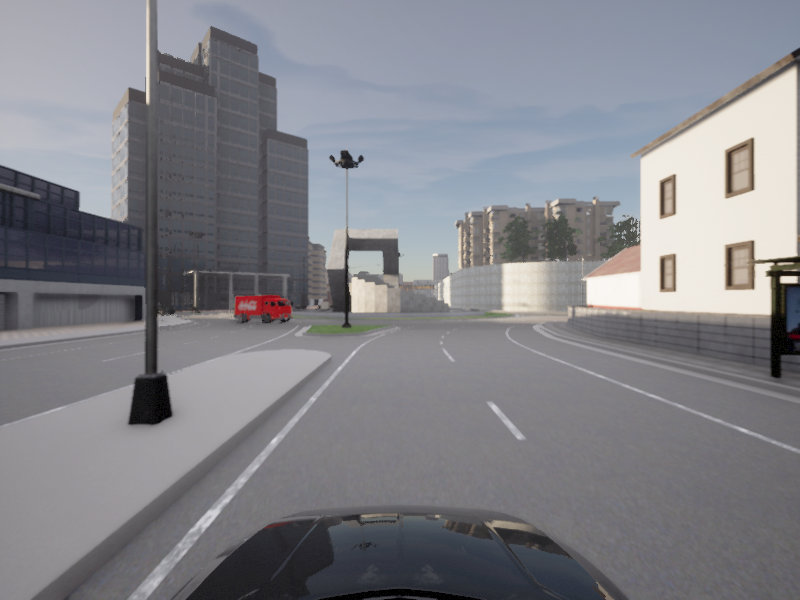vehicle: (232, 294, 297, 324), (233, 304, 245, 318)
